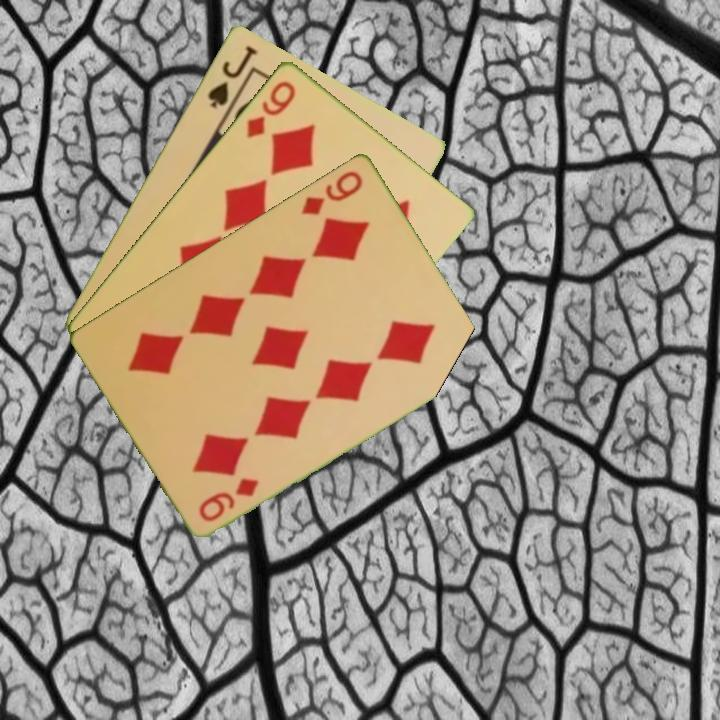9d: (242, 76, 299, 141), (297, 166, 366, 218), (195, 473, 262, 524)
Js: (203, 41, 260, 111)
